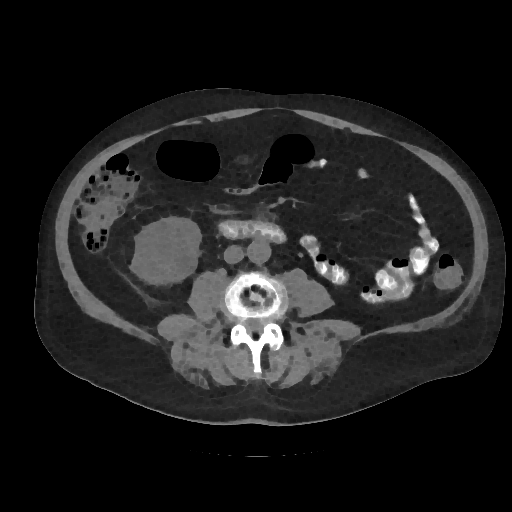Lesion: (129, 218, 197, 287)
